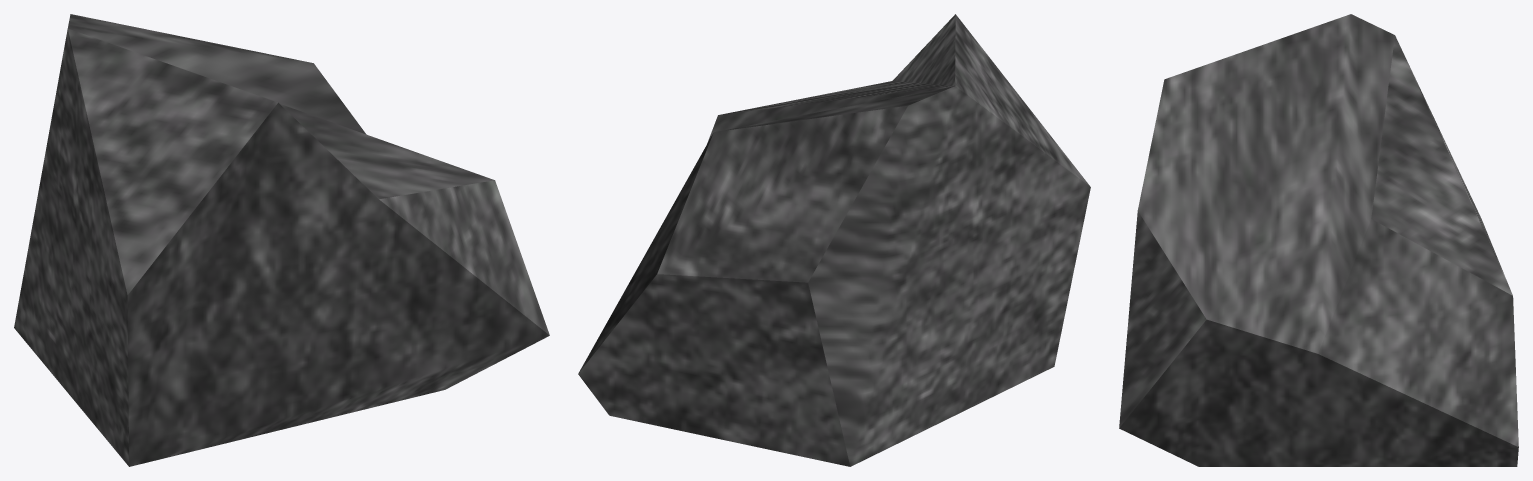
The model's file is Stone01.fbx.
The picture shows the model from 3 angles, left to right: view 1: azimuth 30°, elevation 25°; view 2: azimuth 150°, elevation 25°; view 3: azimuth 270°, elevation 25°; orthographic projection. The views are drawn at different scales.
Parts seen in each view (by area): view 1: Stone01; view 2: Stone01; view 3: Stone01.
Part boxes in pixels (x1,y1,x2,y2): Stone01: (14,14,549,466); Stone01: (578,14,1090,466); Stone01: (1119,14,1518,466).
Size of the model in its own units: 16.73 by 14.89 by 16.5.
